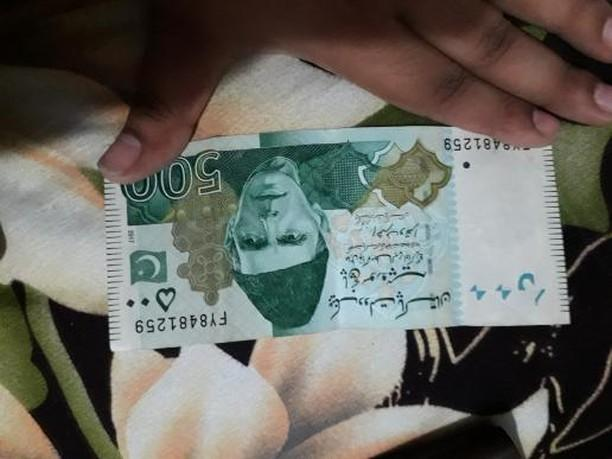500 rupee: (92, 125, 577, 343)
